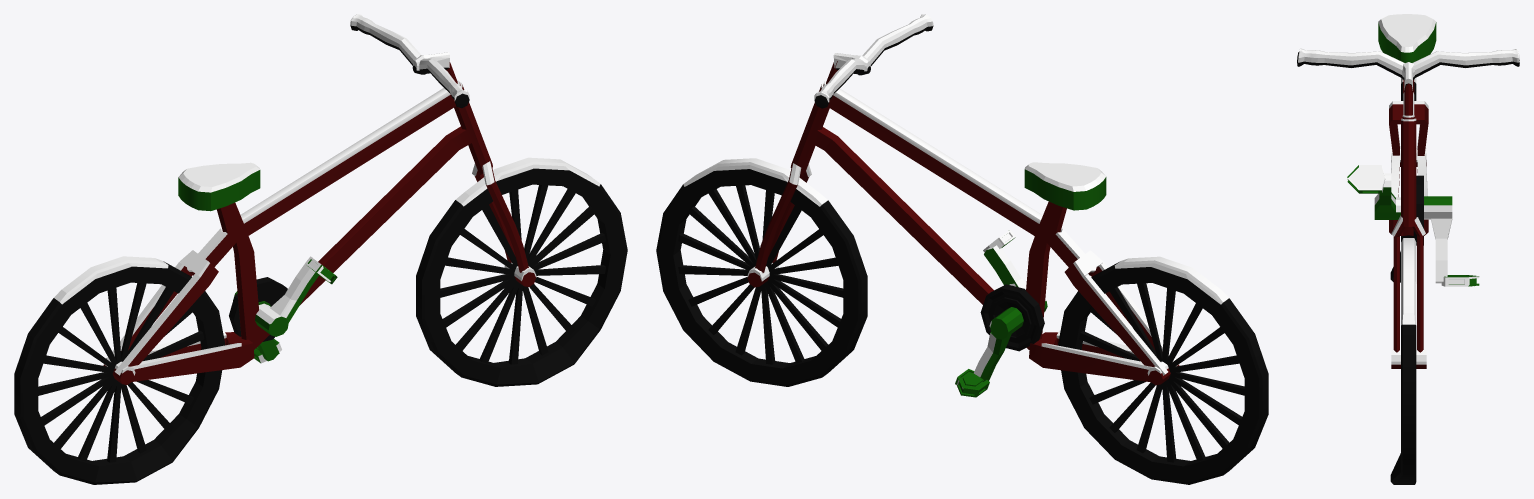
Rendered from bike1.FBX.
3 views of the same model, side by side, from view 1: azimuth 30°, elevation 25°; view 2: azimuth 150°, elevation 25°; view 3: azimuth 270°, elevation 25° (orthographic). The views are drawn at different scales.
Visible parts, largest first — view 1: wheel1, body, wheel2, chair, steeringWheel, pedal2, disc; view 2: wheel1, body, wheel2, chair, steeringWheel, disc, pedal1, pedal2; view 3: body, wheel1, steeringWheel, chair, pedal1, pedal2, disc, wheel2.
Part boxes in pixels (x1,y1,x2,y2): wheel1: [416, 157, 627, 386]; body: [103, 62, 536, 384]; wheel2: [14, 256, 225, 484]; chair: [178, 162, 260, 211]; steeringWheel: [350, 14, 469, 108]; pedal2: [255, 256, 337, 336]; disc: [229, 277, 287, 341]; wheel1: [656, 158, 867, 386]; body: [747, 61, 1179, 385]; wheel2: [1058, 256, 1268, 484]; chair: [1024, 162, 1106, 210]; steeringWheel: [814, 14, 933, 108]; disc: [980, 284, 1044, 351]; pedal1: [955, 307, 1023, 397]; pedal2: [983, 229, 1047, 311]; body: [1389, 80, 1428, 368]; wheel1: [1390, 238, 1416, 484]; steeringWheel: [1297, 48, 1519, 91]; chair: [1378, 14, 1436, 62]; pedal1: [1424, 196, 1479, 286]; pedal2: [1347, 165, 1400, 219]; disc: [1413, 175, 1423, 245]; wheel2: [1390, 78, 1416, 282].
Bounding box in the file's own units: 40.98 × 23.09 × 12.62.
